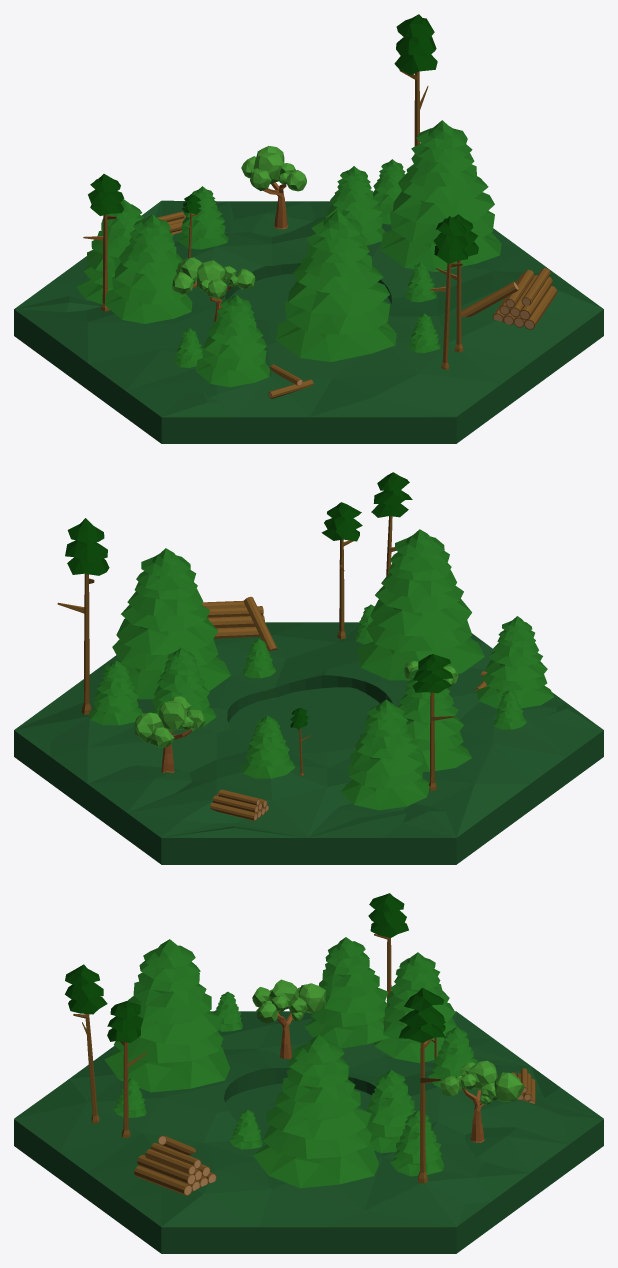
File: wood.fbx
3 renders of one model, top to bottom at view 1: azimuth 30°, elevation 25°; view 2: azimuth 150°, elevation 25°; view 3: azimuth 270°, elevation 25°, orthographic.
Parts seen in each view (by area): view 1: Cylinder.002; view 2: Cylinder.002; view 3: Cylinder.002.
Part boxes in pixels (<box>): Cylinder.002: <box>14,14,603,443</box>; Cylinder.002: <box>14,472,603,864</box>; Cylinder.002: <box>14,893,603,1253</box>.
Bounding box in the file's own units: 173 × 89.69 × 200.
